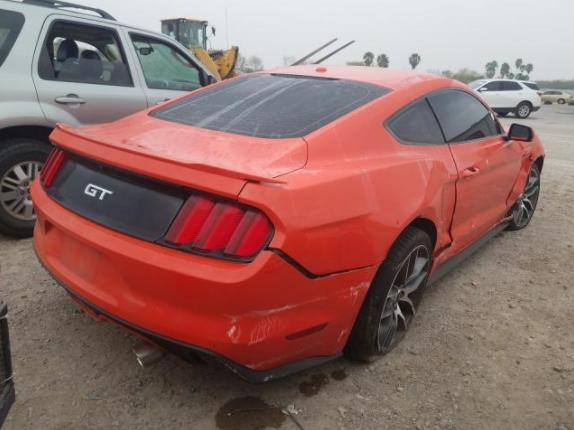Back-bumper: (28, 170, 383, 378)
Back-wheel: (341, 227, 432, 366)
Back-window: (387, 98, 446, 143)
Back-windshield: (147, 73, 395, 138)
Fender: (509, 133, 544, 208)
Front-door: (424, 87, 524, 246)
Front-wheel: (502, 163, 540, 230)
Front-window: (427, 89, 505, 142)
Hood: (501, 124, 510, 132)
Mirror: (501, 123, 534, 142)
Quarter-panel: (237, 123, 457, 278)
Rocker-panel: (427, 216, 512, 284)
Roof: (257, 65, 456, 89)
Tail-light: (160, 190, 274, 261), (39, 145, 69, 193)
Trunk: (48, 112, 308, 200)
